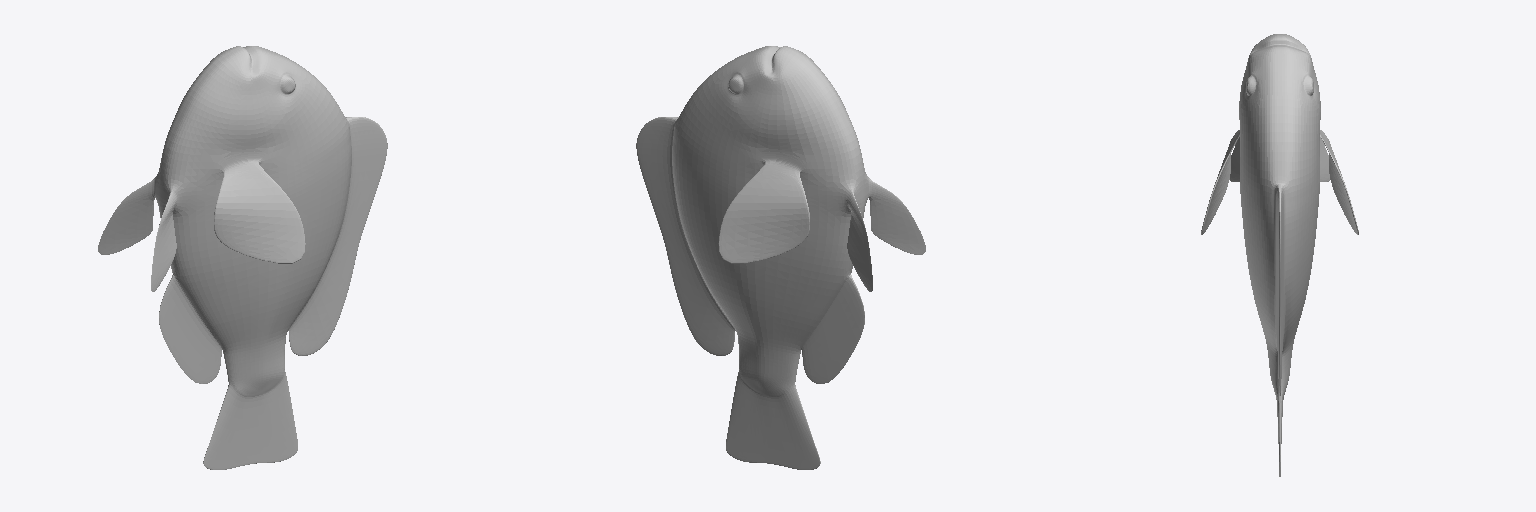
The picture shows the model from 3 angles: view 1: azimuth 30°, elevation 25°; view 2: azimuth 150°, elevation 25°; view 3: azimuth 270°, elevation 25°; orthographic projection.
Visible parts, largest first — view 1: 12265_Fish_v1_L2.001; view 2: 12265_Fish_v1_L2.001; view 3: 12265_Fish_v1_L2.001.
Boxes of the visible parts, <box> form: 12265_Fish_v1_L2.001: <box>98,46,387,469</box>; 12265_Fish_v1_L2.001: <box>636,46,925,469</box>; 12265_Fish_v1_L2.001: <box>1201,34,1358,476</box>.
Size of the model in its own units: 2.24 by 3.44 by 1.16.